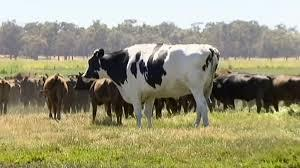cow: (83, 43, 221, 130), (213, 73, 272, 113), (90, 78, 124, 125), (43, 74, 68, 121), (274, 75, 300, 114), (0, 78, 11, 115), (10, 78, 21, 105)
